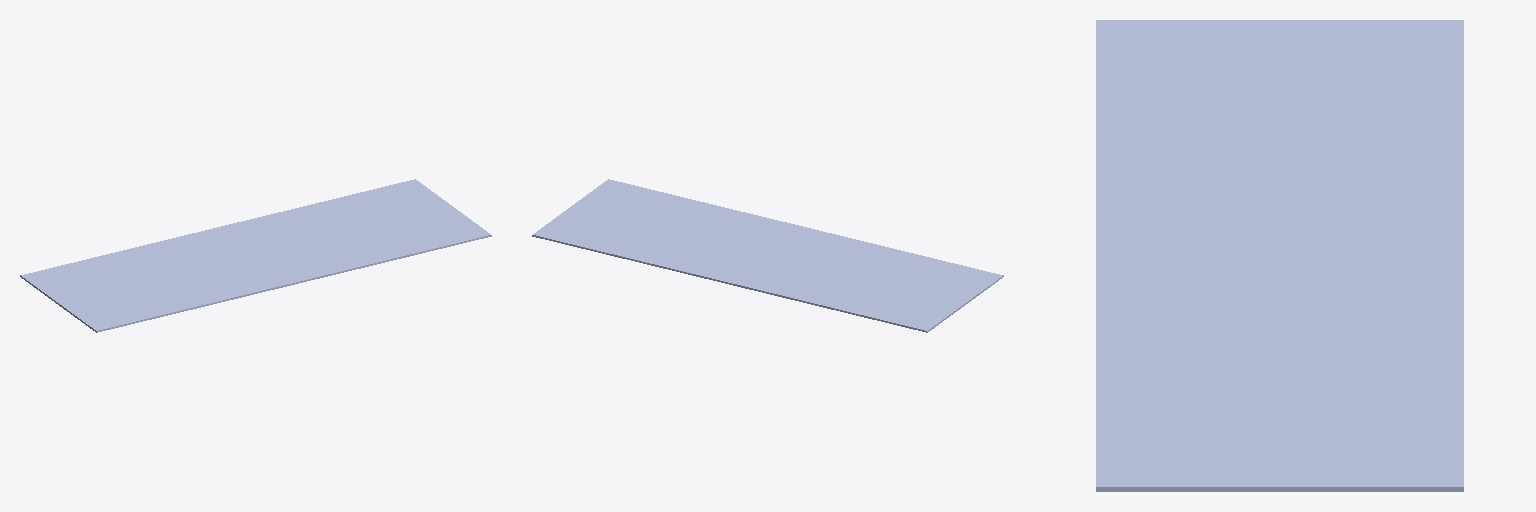
The robot description file, URDF, robot "table":
<?xml version="1.0" encoding="utf-8"?>
<!-- This URDF was automatically created by SolidWorks to URDF Exporter! Originally created by Stephen Brawner ([email redacted]) 
     Commit Version: 1.5.1-0-g916b5db  Build Version: 1.5.7152.31018
     For more information, please see http://wiki.ros.org/sw_urdf_exporter -->
<robot
  name="table">
  <link
    name="table">
    <inertial>
      <origin
        xyz="-4.3766E-16 -1.53373848411544E-16 0.005"
        rpy="0 0 0" />
      <mass
        value="16.875" />
      <inertia
        ixx="0.79116"
        ixy="-6.5919E-17"
        ixz="-4.05528831188086E-33"
        iyy="7.1193"
        iyz="4.84270582619058E-17"
        izz="7.9102" />
    </inertial>
    <visual>
      <origin
        xyz="0 0 0"
        rpy="1.5707963267949 0 0" />
      <geometry>
        <mesh
          filename="package://table/meshes/table.STL" />
      </geometry>
      <material
        name="">
        <color
          rgba="0.79216 0.81961 0.93333 1" />
        <!--
        <texture
          filename="package://table/textures/" />
        -->
      </material>
    </visual>
    <collision>
      <origin
        xyz="0 0 0"
        rpy="1.5707963267949 0 0" />
      <geometry>
        <mesh
          filename="package://table/meshes/table.STL" />
      </geometry>
    </collision>
  </link>


</robot>

--- Facts derived from the render (not from the file) ---
Views: 3 orthographic renders of the robot side by side, from view 1: azimuth 30°, elevation 25°; view 2: azimuth 150°, elevation 25°; view 3: azimuth 270°, elevation 25°.
Model table with 1 links and 0 joints (none), rooted at table, posed every joint at zero.
Visible links, largest first — view 1: table; view 2: table; view 3: table.
Link boxes in pixels (bbox=[...]): table: bbox=[20, 179, 491, 332]; table: bbox=[532, 179, 1003, 332]; table: bbox=[1096, 20, 1463, 491].
Bounding box of the posed robot: 2.25 × 0.75 × 0.01 m (x, y, z).
1 mesh visuals loaded from 1 distinct referenced files (1 binary STL).
